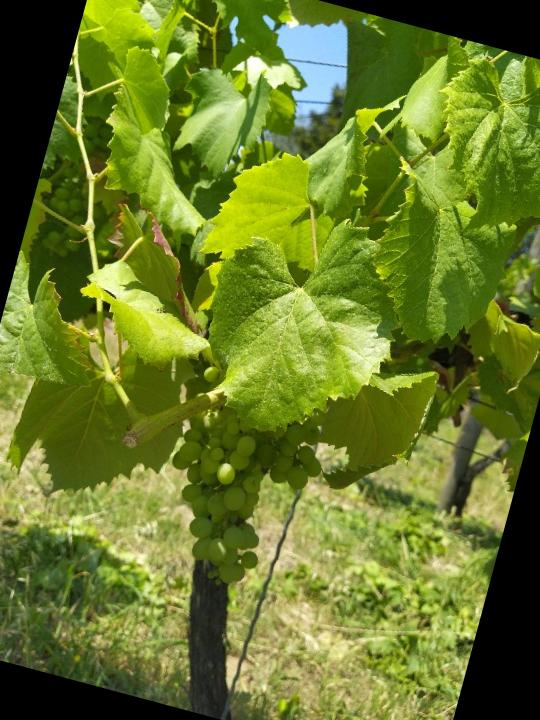grape: (141, 357, 346, 612)
